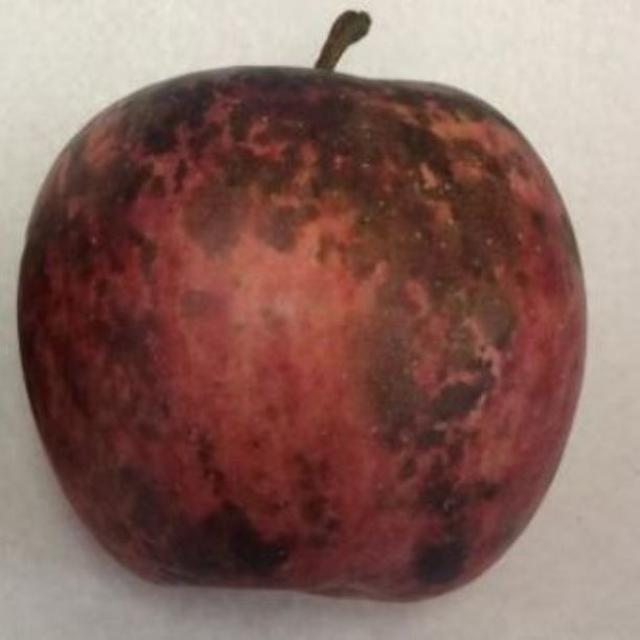Rotten Apple: (8, 33, 600, 625)
